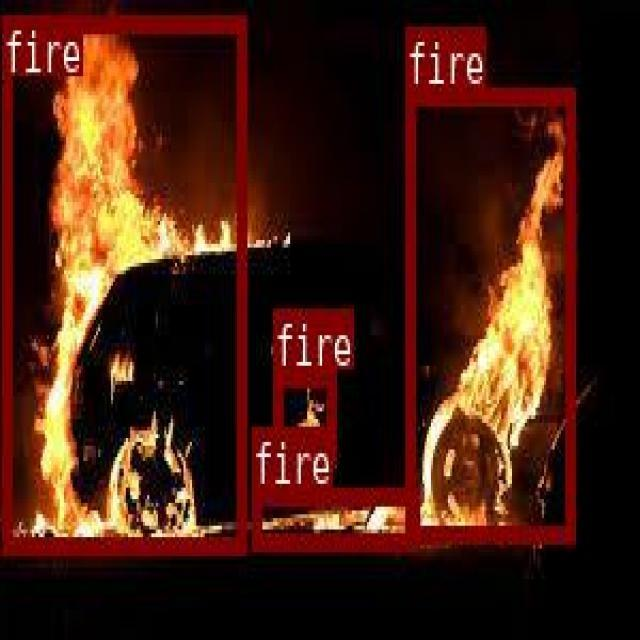fire: (0, 12, 245, 551), (405, 86, 573, 539), (251, 485, 418, 548), (273, 367, 333, 461)
